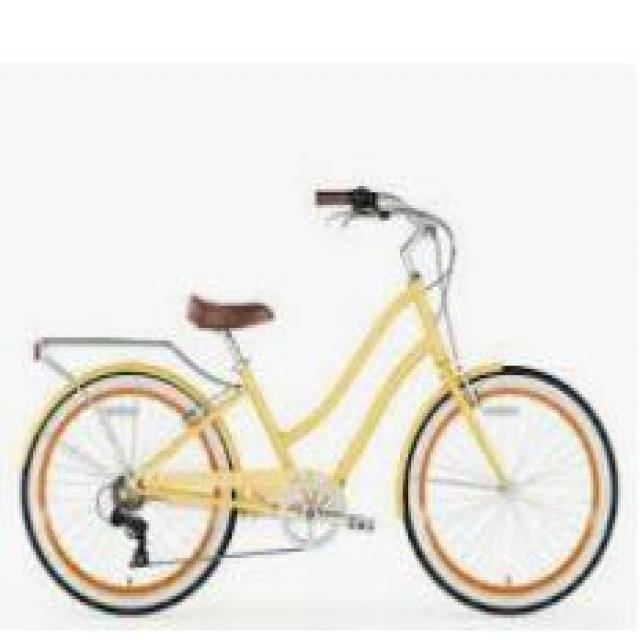bicycle: (15, 190, 619, 619)
